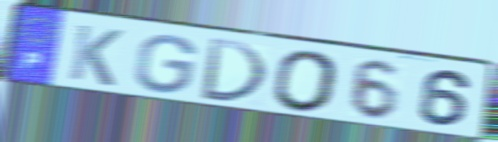6: (418, 67, 475, 130), (348, 58, 401, 122)
D: (197, 36, 270, 106)
G: (132, 32, 199, 96)
K: (65, 22, 126, 89)
O: (272, 48, 342, 114)
